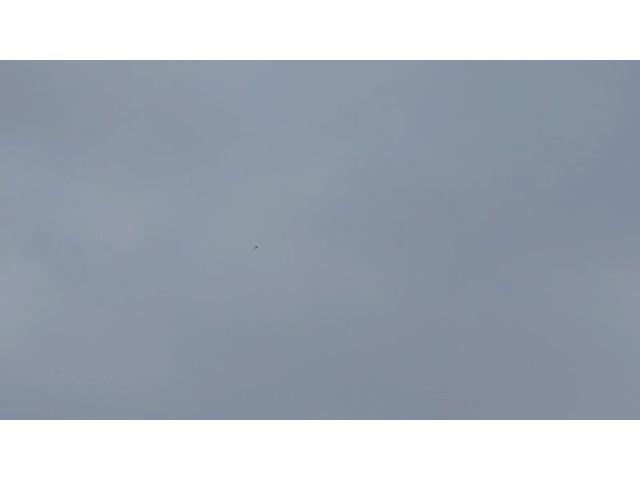Anti-Drone: (252, 244, 260, 250)
